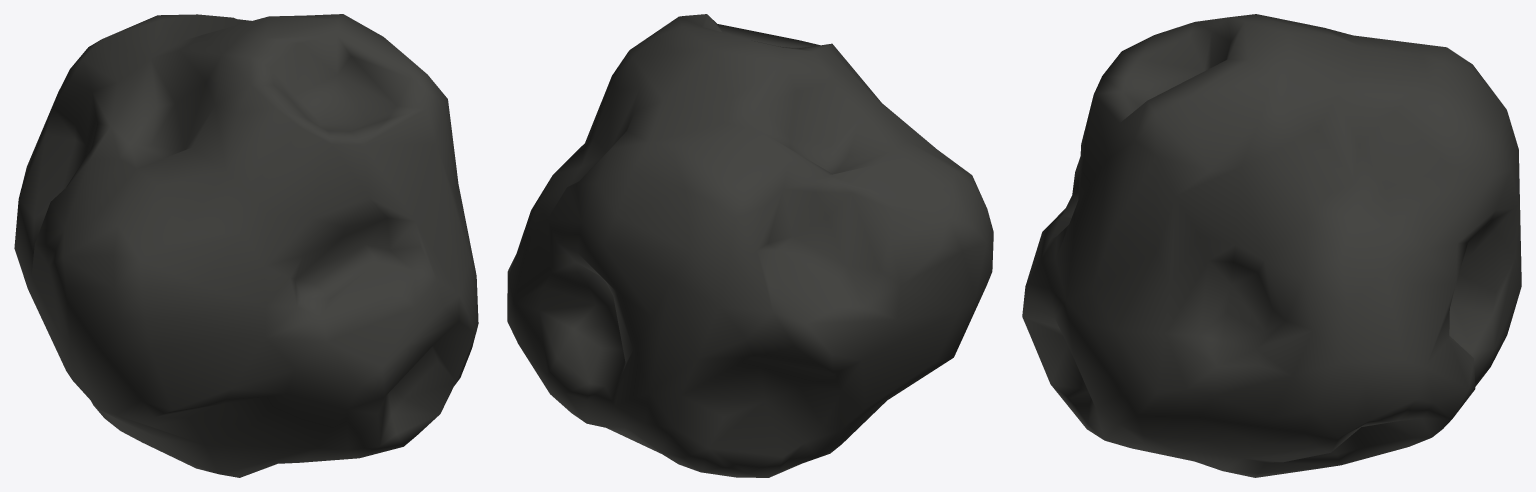
File: Meteor.fbx
3 views of the same model, side by side, from view 1: azimuth 30°, elevation 25°; view 2: azimuth 150°, elevation 25°; view 3: azimuth 270°, elevation 25° (orthographic). The views are drawn at different scales.
Parts seen in each view (by area): view 1: pPlatonic2; view 2: pPlatonic2; view 3: pPlatonic2.
Boxes of the visible parts, bbox=[...] form: pPlatonic2: bbox=[14, 14, 478, 477]; pPlatonic2: bbox=[507, 14, 993, 477]; pPlatonic2: bbox=[1022, 14, 1521, 477].
Size of the model in its own units: 21.09 by 20.08 by 20.79.
